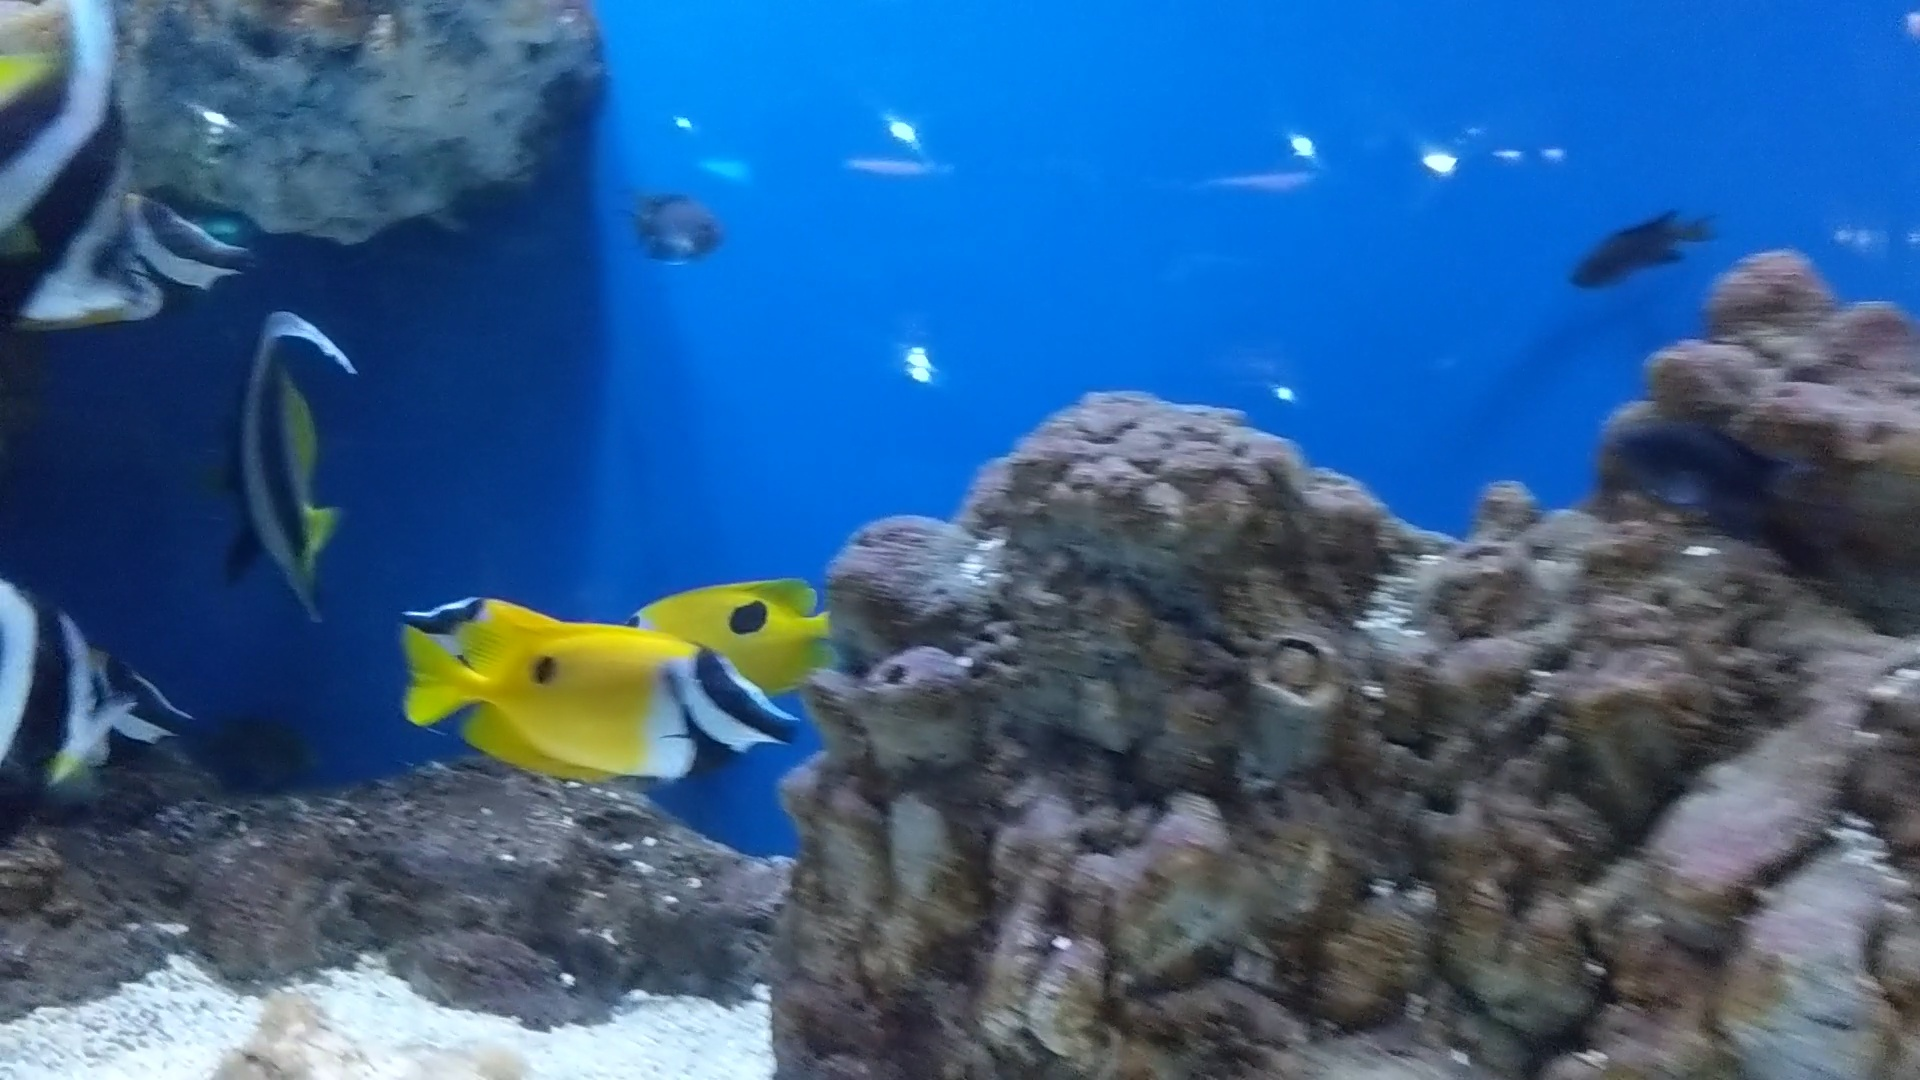moorfish: (204, 270, 355, 618)
rabbitfish: (363, 564, 796, 808), (363, 596, 793, 808), (634, 556, 874, 708)
